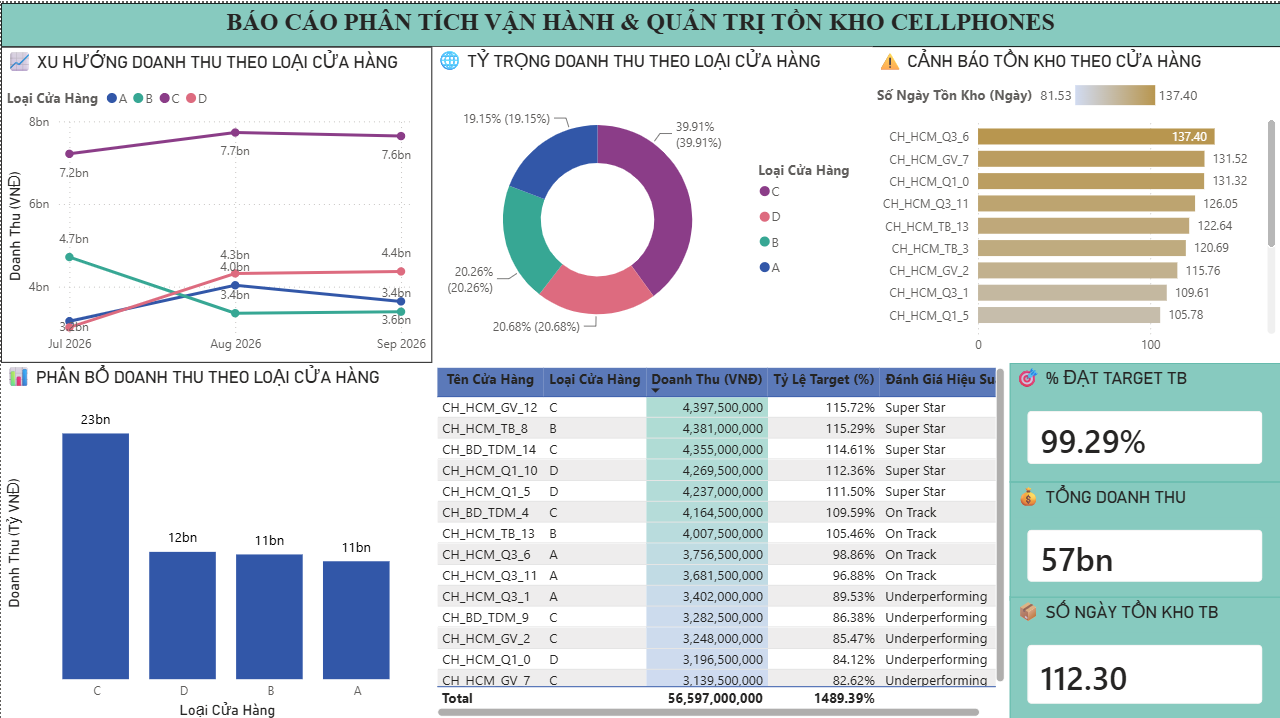

Layout of this report page (visuals, bound fields, positions):
{"tool":"powerbi","page":{"name":"Page 1","canvas":[1280,720],"ordinal":0},"visuals":[{"type":"clusteredColumnChart","title":"📊 PHÂN BỔ DOANH THU THEO LOẠI CỬA HÀNG","fields":{"Category":["processed_stores.Store_Type"],"Y":["Sum(processed_transactions.Total_Amount)"]},"box":[0,360,431.4,360],"z":0},{"type":"tableEx","fields":{"Values":["vtable_StoreTargetAchievement.Store_Name","vtable_StoreTargetAchievement.Store_Type","Sum(vtable_StoreTargetAchievement.Actual_Revenue)","Sum(vtable_StoreTargetAchievement.Achievement_Pct)","vtable_StoreTargetAchievement.Performance_Status"]},"box":[430,360,578.6,358.6],"z":1000},{"type":"clusteredBarChart","title":"⚠️ CẢNH BÁO TỒN KHO THEO CỬA HÀNG","fields":{"Y":["Avg(processed_inventory.Inventory_to_Sales_Ratio)"],"Category":["processed_stores.Store_Name"]},"box":[871.6,44.2,408.4,315.8],"z":2000},{"type":"cardVisual","title":"💰 TỔNG DOANH THU","fields":{"Data":["Sum(processed_transactions.Total_Amount)"]},"box":[1008.7,479.3,271.7,118.5],"z":3000},{"type":"textbox","box":[0,0,1279.8,44.2],"z":4000},{"type":"cardVisual","title":"🎯 % ĐẠT TARGET TB","fields":{"Data":["Avg(vtable_StoreTargetAchievement.Achievement_Pct)"]},"box":[1008.7,359.8,271.7,119.6],"z":5000},{"type":"cardVisual","title":"📦 SỐ NGÀY TỒN KHO TB","fields":{"Data":["Avg(processed_inventory.Inventory_to_Sales_Ratio)"]},"box":[1008.6,594.3,271.4,125.7],"z":6000},{"type":"donutChart","title":"🌐 TỶ TRỌNG DOANH THU THEO LOẠI CỬA HÀNG","fields":{"Y":["Sum(vtable_StoreTypeRevenueAllocation.Revenue_Allocation_Pct)"],"Category":["vtable_StoreTypeRevenueAllocation.Store_Type"]},"box":[431.4,44.3,440,315.7],"z":7000},{"type":"lineChart","title":"📈 XU HƯỚNG DOANH THU CÁC CỬA HÀNG QUÝ 3/2026.","fields":{"Y":["Sum(processed_transactions.Total_Amount)"],"Series":["processed_transactions.Store_Type"],"Category":["processed_transactions.Month_Year.Variation.Date Hierarchy.Year","processed_transactions.Month_Year.Variation.Date Hierarchy.Quarter","processed_transactions.Month_Year.Variation.Date Hierarchy.Month","processed_transactions.Month_Year.Variation.Date Hierarchy.Day"]},"box":[0,44.3,431.4,315.7],"z":8000}]}

Visuals, with their boxes in screenshot pixels (x1, y1, x2, y2), scaled from the page's 1280x720 canvas onto the 1280x718 screenshot:
"📊 PHÂN BỔ DOANH THU THEO LOẠI CỬA HÀNG" clusteredColumnChart: 0/359/431/717
tableEx - vtable_StoreTargetAchievement.Store_Name x vtable_StoreTargetAchievement.Store_Type: 430/359/1009/717
"⚠️ CẢNH BÁO TỒN KHO THEO CỬA HÀNG" clusteredBarChart: 872/44/1279/359
"💰 TỔNG DOANH THU" cardVisual: 1009/478/1279/596
textbox: 0/0/1279/44
"🎯 % ĐẠT TARGET TB" cardVisual: 1009/359/1279/478
"📦 SỐ NGÀY TỒN KHO TB" cardVisual: 1009/593/1279/717
"🌐 TỶ TRỌNG DOANH THU THEO LOẠI CỬA HÀNG" donutChart: 431/44/871/359
"📈 XU HƯỚNG DOANH THU CÁC CỬA HÀNG QUÝ 3/2026." lineChart: 0/44/431/359
